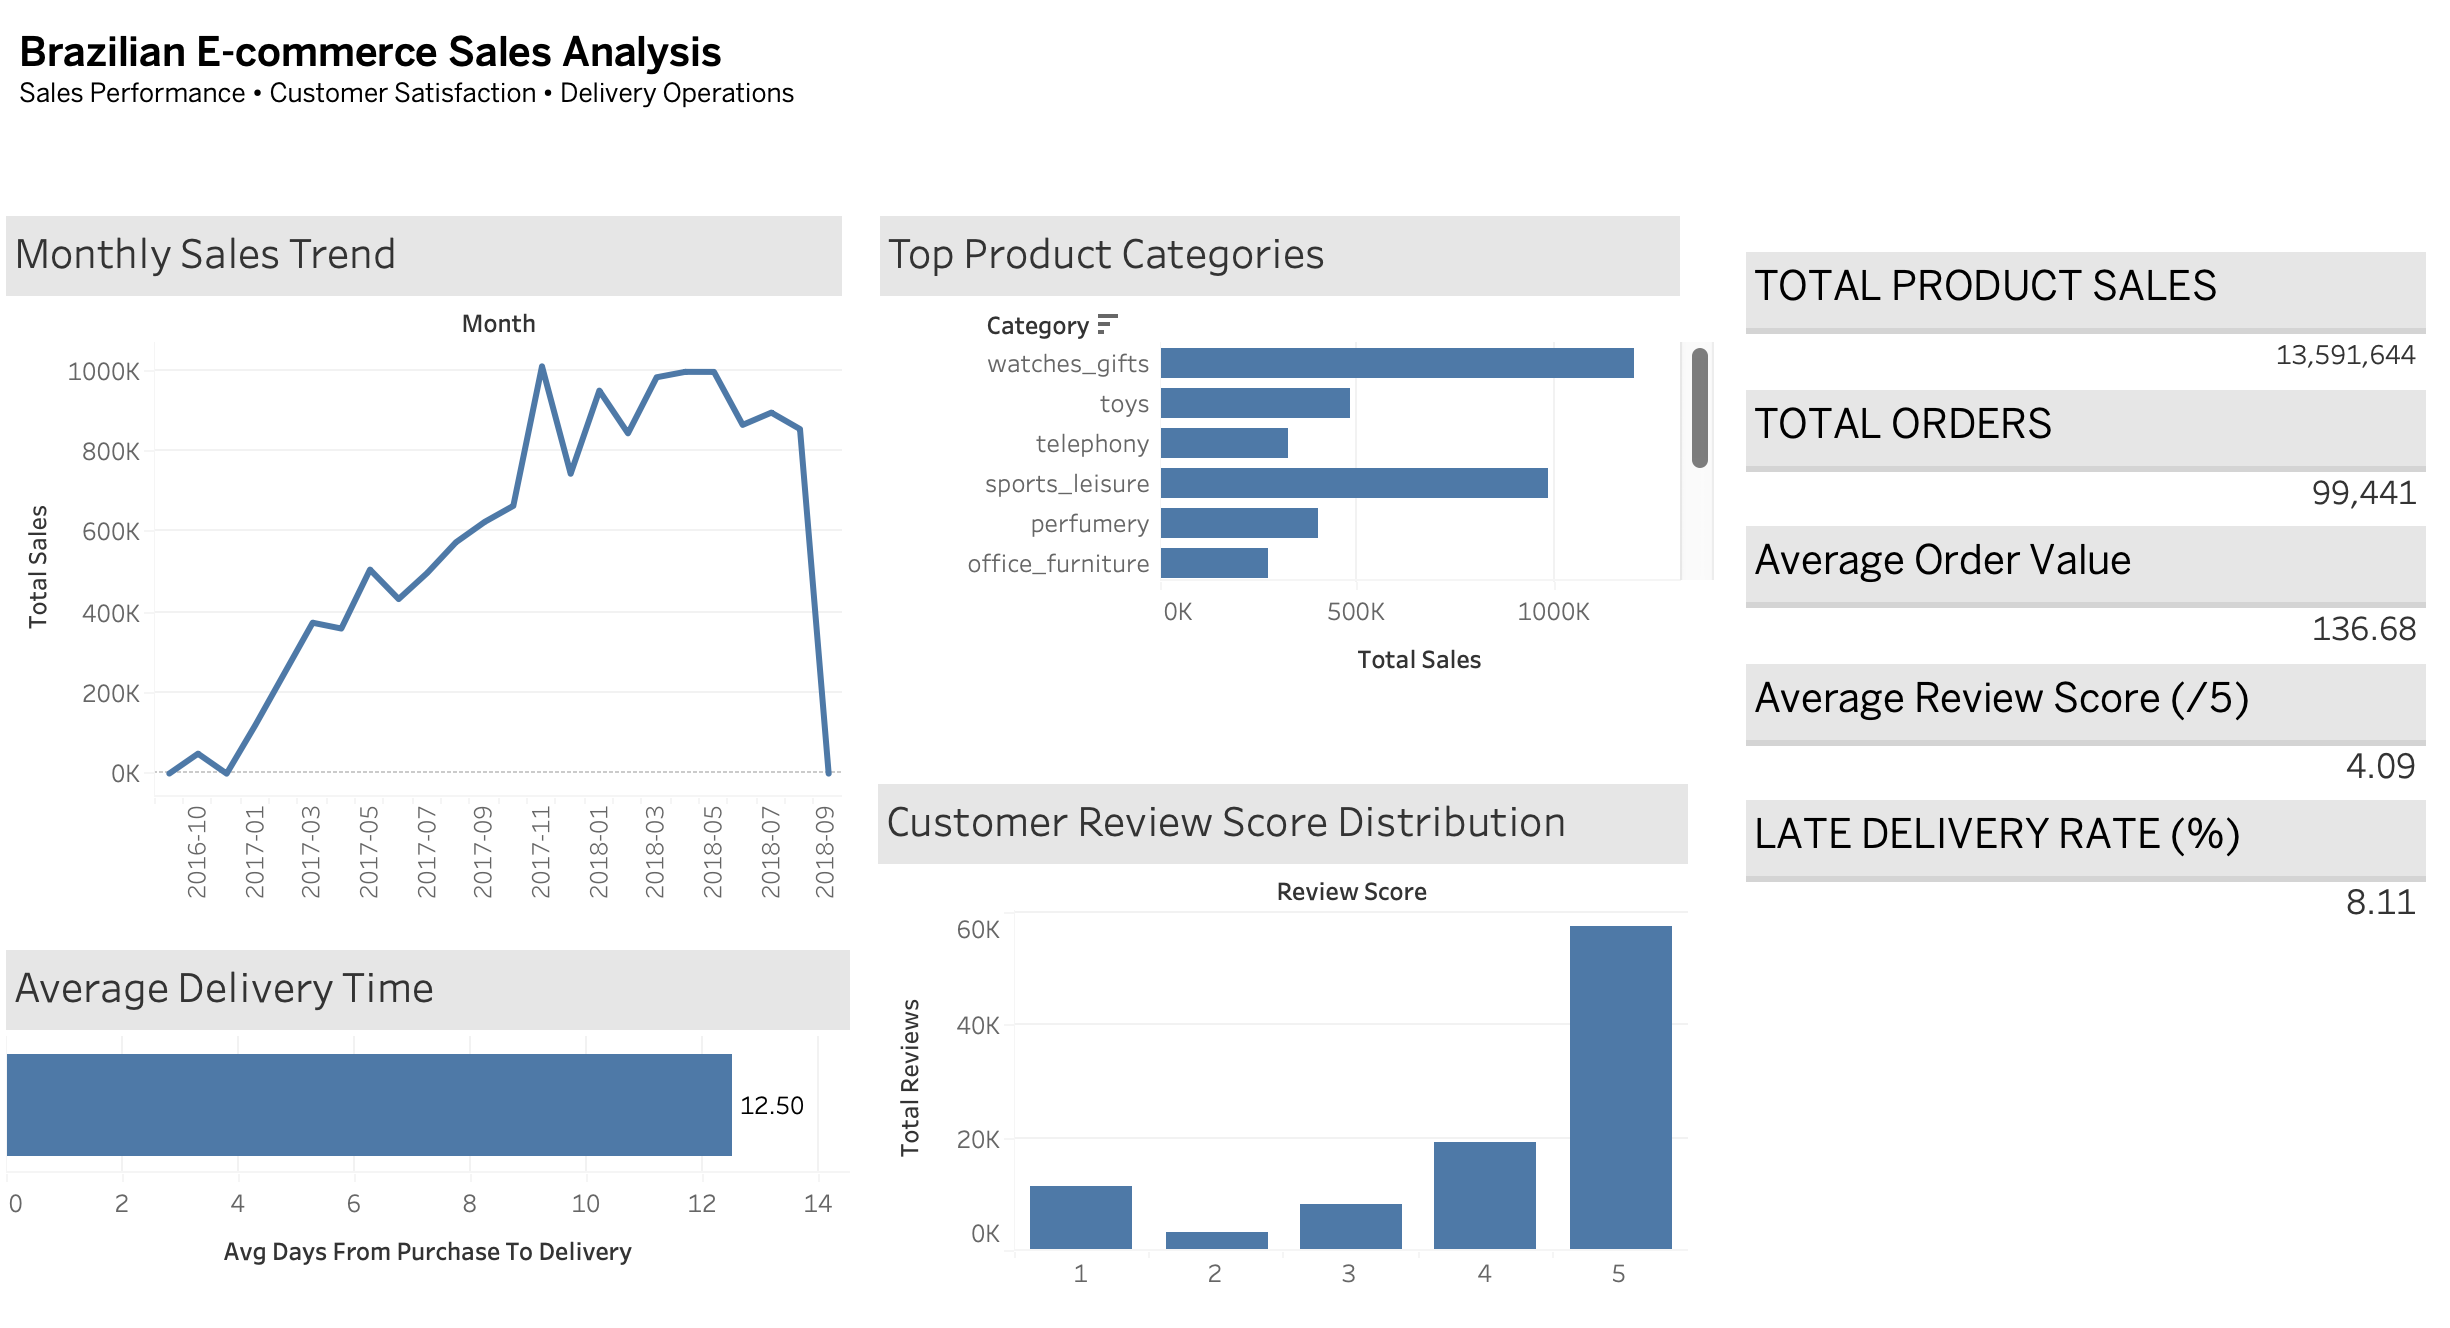

What the dashboard file says about the page in this screenshot:
{"tool":"tableau","page":{"name":"Olist E-commerce Sales Analysis","canvas":[1000,1000],"units":"permille","ordinal":0},"visuals":[{"type":"text","box":[22.5,35.2,376.9,125.2]},{"type":"worksheet","title":"Monthly Sales Trend","mark":"Line","rows":["total_sales"],"cols":["month"],"box":[18.9,201.1,333.6,492.3]},{"type":"worksheet","title":"Top Product Categories","mark":"Bar","rows":["category"],"cols":["total_sales"],"box":[367.9,201.1,332.7,333.3]},{"type":"worksheet","title":"KPI – Total Sales","mark":"Text","box":[709.6,220.8,277.7,96.5]},{"type":"worksheet","title":"KPI – Total Orders","mark":"Text","box":[709.6,317.3,277.7,96.5]},{"type":"worksheet","title":"KPI – Average Order Value","mark":"Text","box":[709.6,413.8,277.7,96.5]},{"type":"worksheet","title":"KPI – Average Review Score","mark":"Automatic","box":[709.6,510.3,277.7,96.5]},{"type":"worksheet","title":"Customer Review Score Distribution","mark":"Bar","rows":["total_reviews"],"cols":["review_score"],"box":[367,600.6,322.8,357.2]},{"type":"worksheet","title":"KPI – Late Delivery Rate","mark":"Automatic","box":[709.6,606.7,277.7,96.5]},{"type":"worksheet","title":"Average Delivery Time","mark":"Bar","cols":["avg_days_from_purchase_to_delivery"],"box":[18.9,717.3,336.3,233.5]}]}

Visuals, with their boxes on the dashboard's canvas, which has no fixed pixel size, in thousandths of its width and height (x1, y1, x2, y2). These are canvas units, not pixel positions in the 2450x1328 screenshot, which may show the page scaled, cropped or inside an application window:
text: x1=22 y1=35 x2=399 y2=160
"Monthly Sales Trend" worksheet (Line marks): x1=19 y1=201 x2=352 y2=693
"Top Product Categories" worksheet (Bar marks): x1=368 y1=201 x2=701 y2=534
"KPI – Total Sales" worksheet (Text marks): x1=710 y1=221 x2=987 y2=317
"KPI – Total Orders" worksheet (Text marks): x1=710 y1=317 x2=987 y2=414
"KPI – Average Order Value" worksheet (Text marks): x1=710 y1=414 x2=987 y2=510
"KPI – Average Review Score" worksheet: x1=710 y1=510 x2=987 y2=607
"Customer Review Score Distribution" worksheet (Bar marks): x1=367 y1=601 x2=690 y2=958
"KPI – Late Delivery Rate" worksheet: x1=710 y1=607 x2=987 y2=703
"Average Delivery Time" worksheet (Bar marks): x1=19 y1=717 x2=355 y2=951
